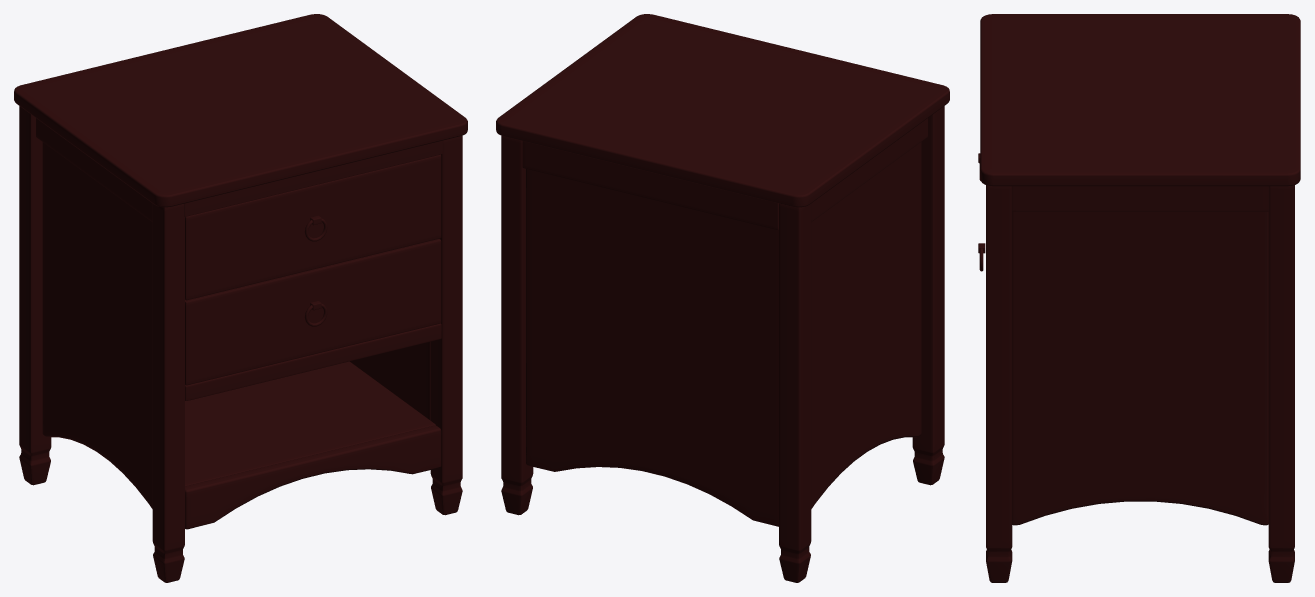
The model's file is bedside_table_01.FBX.
3 renders of one model, left to right at view 1: azimuth 30°, elevation 25°; view 2: azimuth 150°, elevation 25°; view 3: azimuth 270°, elevation 25°, orthographic. The views are drawn at different scales.
Visible parts, largest first — view 1: bedside_table_01; view 2: bedside_table_01; view 3: bedside_table_01.
Boxes of the visible parts, left/top/right/bottom form: bedside_table_01: left=14, top=14, right=467, bottom=582; bedside_table_01: left=496, top=14, right=949, bottom=582; bedside_table_01: left=978, top=14, right=1300, bottom=582.
Size of the model in its own units: 50 by 42.25 by 60.
